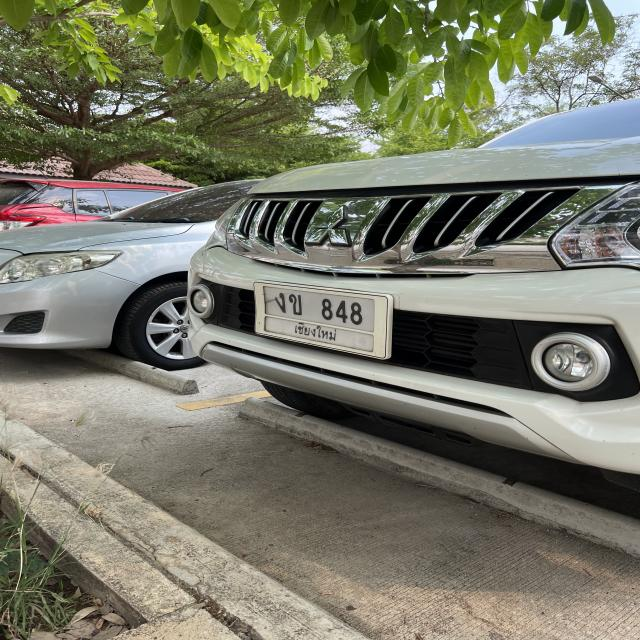license_plate: (252, 280, 397, 364)
